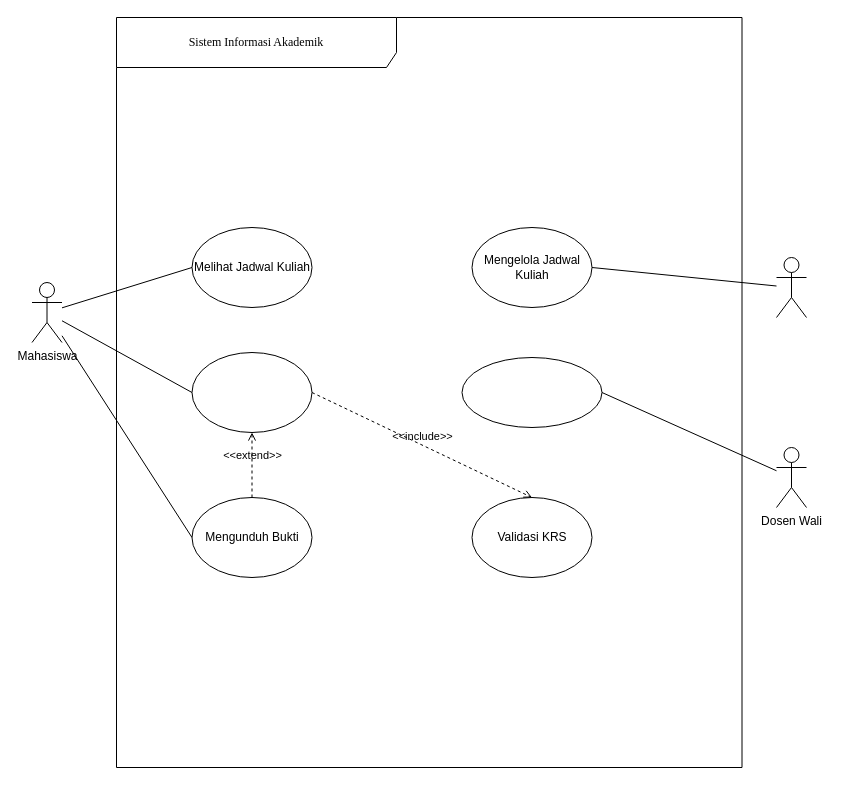
Some shapes in this 853 by 785 pixel diagram are drawn without their labels. The centre of each missing label's shape, as x and y in pixels:
"Admin Akademik" belongs at (791,287).
"Mengajukan KRS" belongs at (251,392).
"Menyetujui/Menolak KRS" belongs at (531,392).
